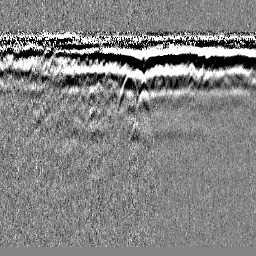cavity: (117, 69, 140, 111)
